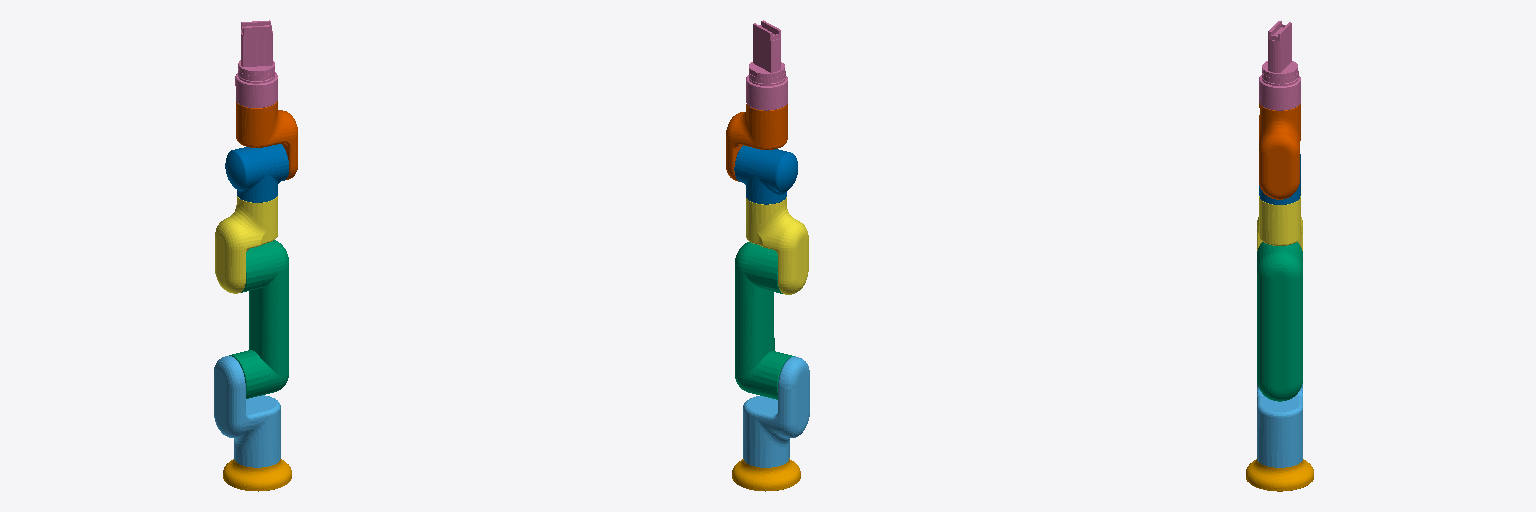
The robot description file, URDF, robot "RobotArm_Left":
<?xml version="1.0" encoding="UTF-8"?>
<robot name="RobotArm_Left">
  <joint name="j1_Joint_L" type="revolute">
    <origin xyz="0. 0. 0.0485" rpy="0. 0. -3.1415854"/>
    <parent link="RobotArm_Left"/>
    <child link="j1_Link_L"/>
    <axis xyz="0. 0. 1."/>
    <limit lower="-3.0543262" upper="3.0543262" effort="340282346638528859811704183484516925440." velocity="0.8726646"/>
  </joint>
  <joint name="j2_Joint_L" type="revolute">
    <origin xyz="0.041 0. 0.1685" rpy="-1.5708 -0.0000001 1.5708 "/>
    <parent link="j1_Link_L"/>
    <child link="j2_Link_L"/>
    <axis xyz="0. 0. 1."/>
    <limit lower="-2.0071286" upper="2.0071286" effort="340282346638528859811704183484516925440." velocity="0.8726646"/>
  </joint>
  <joint name="j3_Joint_L" type="revolute">
    <origin xyz="0. -0.223 -0.002" rpy="-0.0000001 -0. 3.1415854"/>
    <parent link="j2_Link_L"/>
    <child link="j3_Link_L"/>
    <axis xyz="0. 0. 1."/>
    <limit lower="-1.9198622" upper="1.9198622" effort="340282346638528859811704183484516925440." velocity="0.8726646"/>
  </joint>
  <joint name="j4_Joint_L" type="revolute">
    <origin xyz="-0. 0.1379999 0.043 " rpy="-1.5613122 -1.5707927 3.1321123"/>
    <parent link="j3_Link_L"/>
    <child link="j4_Link_L"/>
    <axis xyz="0. 0. 1."/>
    <limit lower="-3.0543262" upper="3.0543262" effort="340282346638528859811704183484516925440." velocity="0.8726646"/>
  </joint>
  <joint name="j5_Joint_L" type="revolute">
    <origin xyz="0.041488 0.0009849 -0.0675 " rpy="1.5708 -0.0000001 -1.5471 "/>
    <parent link="j4_Link_L"/>
    <child link="j5_Link_L"/>
    <axis xyz="0. 0. 1."/>
    <limit lower="-1.8325957" upper="1.8325957" effort="340282346638528859811704183484516925440." velocity="0.8726646"/>
  </joint>
  <joint name="j6_Joint_L" type="revolute">
    <origin xyz="0. -0.137 0.043" rpy="1.5704987 1.5471071 -0.0003013"/>
    <parent link="j5_Link_L"/>
    <child link="j6_Link_L"/>
    <axis xyz="0. 0. 1."/>
    <limit lower="-6.2831853" upper="6.2831853" effort="340282346638528859811704183484516925440." velocity="0.8726646"/>
  </joint>
  <link name="RobotArm_Left">
    <visual>
      <origin xyz="0. 0. 0." rpy="0. 0. 0."/>
      <geometry>
        <mesh filename="package://arm_left_description/meshes/base_link_02_mesh.obj" scale="1. 1. 1."/>
      </geometry>
    </visual>
    <collision>
      <origin xyz="0. 0. 0." rpy="0. 0. 0."/>
      <geometry>
        <mesh filename="package://arm_left_description/meshes/base_link_02_mesh.obj" scale="1. 1. 1."/>
      </geometry>
    </collision>
  </link>
  <link name="j1_Link_L">
    <inertial>
      <origin xyz="0.02283 -0.0000001 0.07922 " rpy="0. 0. 0."/>
      <mass value="1.071"/>
      <inertia ixx="0.0033977" ixy="0." ixz="-0.0011756" iyy="0.0041143" iyz="-0." izz="0.0018011"/>
    </inertial>
    <visual>
      <origin xyz="0. 0. 0." rpy="0. 0. 0."/>
      <geometry>
        <mesh filename="package://arm_left_description/meshes/j1_Link_02_mesh.obj" scale="1. 1. 1."/>
      </geometry>
    </visual>
    <collision>
      <origin xyz="0. 0. 0." rpy="0. 0. 0."/>
      <geometry>
      	<mesh filename="package://arm_left_description/meshes/j1_Link_02_mesh.obj" scale="1. 1. 1."/>
      </geometry>
    </collision>
  </link>
  <link name="j2_Link_L">
    <inertial>
      <origin xyz="0. -0.1115 0.053099" rpy="0. 0. 0."/>
      <mass value="1.8748"/>
      <inertia ixx="0.017658" ixy="0." ixz="0." iyy="0.002303" iyz="0." izz="0.017242"/>
    </inertial>
    <visual>
      <origin xyz="0. 0. -0." rpy="0. -0. 0."/>
      <geometry>
        <mesh filename="package://arm_left_description/meshes/j2_Link_02_mesh.obj" scale="1. 1. 1."/>
      </geometry>
    </visual>
    <collision>
      <origin xyz="0. 0. -0." rpy="0. -0. 0."/>
      <geometry>
        <mesh filename="package://arm_left_description/meshes/j2_Link_02_mesh.obj" scale="1. 1. 1."/>
      </geometry>
    </collision>
  </link>
  <link name="j3_Link_L">
    <inertial>
      <origin xyz="-0.0000001 0.070277 0.015242 " rpy="0. 0. 0."/>
      <mass value="0.76714"/>
      <inertia ixx="0.0023668" ixy="0." ixz="-0." iyy="0.0011702" iyz="-0.000731" izz="0.0018731"/>
    </inertial>
    <visual>
      <origin xyz="0. -0. -0." rpy="0. 0. 0."/>
      <geometry>
        <mesh filename="package://arm_left_description/meshes/j3_Link_02_mesh.obj" scale="1. 1. 1."/>
      </geometry>
    </visual>
    <collision>
      <origin xyz="0. -0. -0." rpy="0. 0. 0."/>
      <geometry>
        <mesh filename="package://arm_left_description/meshes/j3_Link_02_mesh.obj" scale="1. 1. 1."/>
      </geometry>
    </collision>
  </link>
  <link name="j4_Link_L">
    <inertial>
      <origin xyz="-0.0037368 -0.0000883 -0.055958 " rpy="0. 0. 0."/>
      <mass value="0.61241"/>
      <inertia ixx="0.0006883" ixy="-0.0000044" ixz="-0.0000265" iyy="0.0008747" iyz="-0.0000006" izz="0.0006657"/>
    </inertial>
    <visual>
      <origin xyz="0. 0. -0." rpy="-0. -0. -0."/>
      <geometry>
        <mesh filename="package://arm_left_description/meshes/j4_Link_02_mesh.obj" scale="1. 1. 1."/>
      </geometry>
    </visual>
    <collision>
      <origin xyz="0. 0. -0." rpy="-0. -0. -0."/>
      <geometry>
        <mesh filename="package://arm_left_description/meshes/j4_Link_02_mesh.obj" scale="1. 1. 1."/>
      </geometry>
    </collision>
  </link>
  <link name="j5_Link_L">
    <inertial>
      <origin xyz="0. -0.068149 0.018232" rpy="0. 0. 0."/>
      <mass value="0.67991"/>
      <inertia ixx="0.0018403" ixy="0." ixz="0." iyy="0.0009891" iyz="0.0005627" izz="0.0013908"/>
    </inertial>
    <visual>
      <origin xyz="0. -0. -0." rpy="0.0000001 0. -0.0000001"/>
      <geometry>
        <mesh filename="package://arm_left_description/meshes/j5_Link_02_mesh.obj" scale="1. 1. 1."/>
      </geometry>
    </visual>
    <collision>
      <origin xyz="0. -0. -0." rpy="0.0000001 0. -0.0000001"/>
      <geometry>
        <mesh filename="package://arm_left_description/meshes/j5_Link_02_mesh.obj" scale="1. 1. 1."/>
      </geometry>
    </collision>
  </link>
  <link name="j6_Link_L">
    <inertial>
      <origin xyz="-0. 0. 0.052089" rpy="0. 0. 0."/>
      <mass value="0.46058"/>
      <inertia ixx="0.0003679" ixy="0.0000088" ixz="0." iyy="0.0003859" iyz="0." izz="0.0002959"/>
    </inertial>
    <visual>
      <origin xyz="0. -0. 0." rpy="-0. -0. 0."/>
      <geometry>
        <mesh filename="package://arm_left_description/meshes/j6_Link_02_mesh.obj" scale="1. 1. 1."/>
      </geometry>
    </visual>
    <collision>
      <origin xyz="0. -0. 0." rpy="-0. -0. 0."/>
      <geometry>
        <mesh filename="package://arm_left_description/meshes/j6_Link_02_mesh.obj" scale="1. 1. 1."/>
      </geometry>
    </collision>
  </link>
</robot>

--- Render facts (derived) ---
3 views of the same robot in one strip: view 1: azimuth 30°, elevation 25°; view 2: azimuth 150°, elevation 25°; view 3: azimuth 270°, elevation 25° (orthographic).
Robot: RobotArm_Left — 7 links, 6 joints (6 revolute); root link RobotArm_Left; default pose: all joints at 0.
Visible links, largest first — view 1: j2_Link_L, j1_Link_L, j3_Link_L, j6_Link_L, j4_Link_L, j5_Link_L, RobotArm_Left; view 2: j2_Link_L, j1_Link_L, j3_Link_L, j6_Link_L, j4_Link_L, j5_Link_L, RobotArm_Left; view 3: j2_Link_L, j5_Link_L, j1_Link_L, j6_Link_L, j3_Link_L, RobotArm_Left.
Link boxes in pixels (x1,y1,x2,y2): j2_Link_L: [229, 240, 288, 398]; j1_Link_L: [214, 356, 280, 467]; j3_Link_L: [215, 196, 277, 293]; j6_Link_L: [235, 20, 277, 107]; j4_Link_L: [225, 144, 288, 202]; j5_Link_L: [236, 101, 297, 179]; RobotArm_Left: [223, 459, 291, 491]; j2_Link_L: [735, 242, 793, 399]; j1_Link_L: [743, 356, 809, 467]; j3_Link_L: [746, 197, 808, 294]; j6_Link_L: [746, 20, 787, 110]; j4_Link_L: [734, 145, 797, 204]; j5_Link_L: [726, 104, 787, 181]; RobotArm_Left: [732, 458, 800, 491]; j2_Link_L: [1257, 242, 1302, 401]; j5_Link_L: [1259, 103, 1300, 199]; j1_Link_L: [1257, 384, 1302, 467]; j6_Link_L: [1259, 21, 1300, 110]; j3_Link_L: [1257, 196, 1302, 250]; RobotArm_Left: [1246, 459, 1313, 491].
Size in the robot's own frame: 0.1539 by 0.13 by 0.9389 metres.
Meshes: 7 distinct files referenced, 7 mesh visuals loaded (7 OBJ).